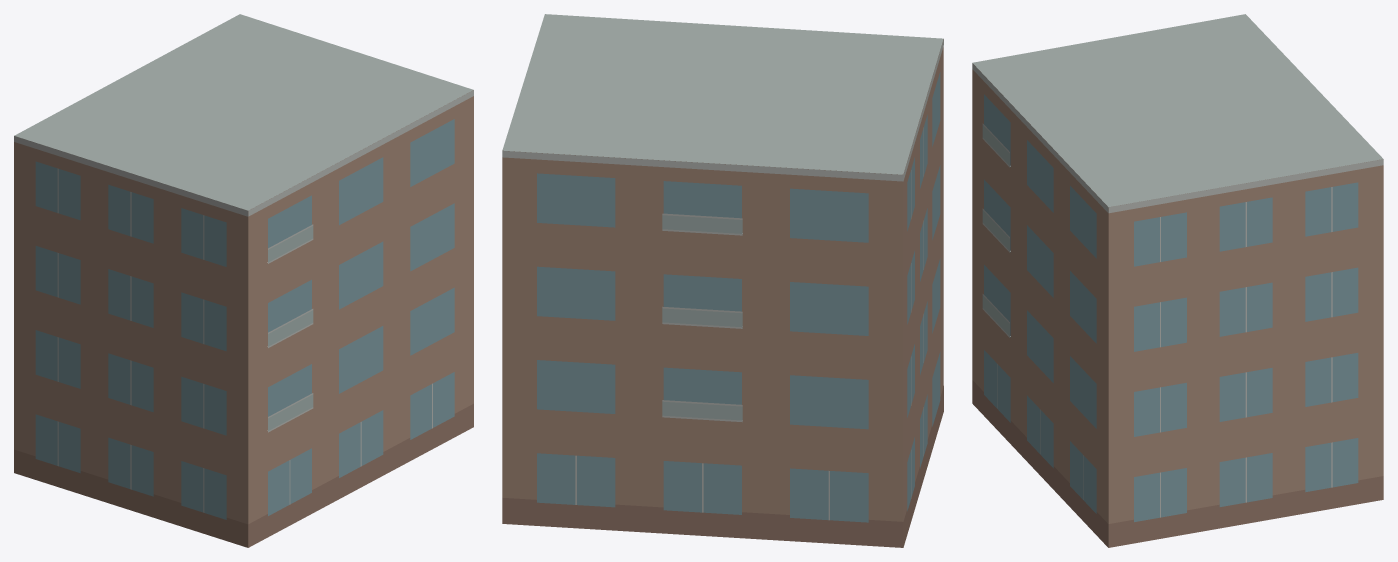
The model's file is survey-upis-32849971.glb.
3 views of the same model, side by side, from view 1: azimuth 30°, elevation 25°; view 2: azimuth 150°, elevation 25°; view 3: azimuth 270°, elevation 25° (orthographic). The views are drawn at different scales.
Visible parts, largest first — view 1: survey-upis-32849971.tmp; view 2: survey-upis-32849971.tmp; view 3: survey-upis-32849971.tmp.
Part boxes in pixels (x1,y1,x2,y2): survey-upis-32849971.tmp: [14, 14, 473, 547]; survey-upis-32849971.tmp: [502, 14, 943, 547]; survey-upis-32849971.tmp: [972, 14, 1383, 547].
Bounding box in the file's own units: 16.43 × 13.5 × 14.78.
